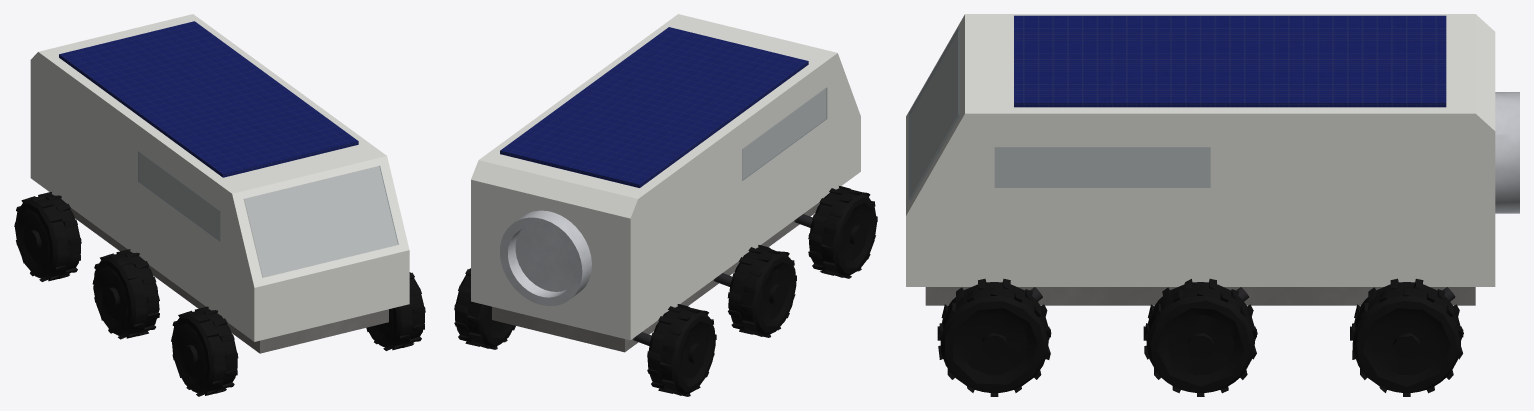
File: rover03_pressurised_rover.glb
3 renders of one model, left to right at view 1: azimuth 30°, elevation 25°; view 2: azimuth 150°, elevation 25°; view 3: azimuth 270°, elevation 25°, orthographic. The views are drawn at different scales.
Visible parts, largest first — view 1: cabin, roof_solar, windows, wheel_5, wheel_4, wheel_6, chassis, wheel_1; view 2: cabin, roof_solar, rear_hatch, wheel_6, wheel_5, wheel_4, chassis, windows, wheel_3, suspension_arms; view 3: cabin, roof_solar, windows, wheel_1, wheel_2, wheel_3, chassis, rear_hatch.
Boxes of the visible parts, left/top/right/bottom form: cabin: left=30, top=14, right=409, bottom=341; roof_solar: left=59, top=21, right=358, bottom=177; windows: left=138, top=151, right=398, bottom=277; wheel_5: left=92, top=249, right=159, bottom=339; wheel_4: left=171, top=306, right=238, bottom=396; wheel_6: left=14, top=192, right=81, bottom=281; chassis: left=51, top=194, right=388, bottom=353; wheel_1: left=366, top=272, right=425, bottom=350; cabin: left=471, top=14, right=860, bottom=340; roof_solar: left=500, top=27, right=808, bottom=187; rear_hatch: left=500, top=210, right=591, bottom=306; wheel_6: left=647, top=304, right=716, bottom=396; wheel_5: left=727, top=245, right=796, bottom=337; wheel_4: left=808, top=186, right=877, bottom=278; chassis: left=492, top=188, right=839, bottom=352; windows: left=742, top=88, right=827, bottom=180; wheel_3: left=454, top=268, right=515, bottom=349; suspension_arms: left=633, top=214, right=812, bottom=345; cabin: left=906, top=14, right=1495, bottom=286; roof_solar: left=1014, top=15, right=1446, bottom=107; windows: left=908, top=27, right=1210, bottom=201; wheel_1: left=937, top=278, right=1051, bottom=396; wheel_2: left=1143, top=278, right=1257, bottom=396; wheel_3: left=1350, top=278, right=1463, bottom=396; chassis: left=925, top=287, right=1475, bottom=305; rear_hatch: left=1495, top=92, right=1519, bottom=213.
Size of the model in its own units: 3.39 by 3.03 by 6.25.
7 materials, 3 textured.
